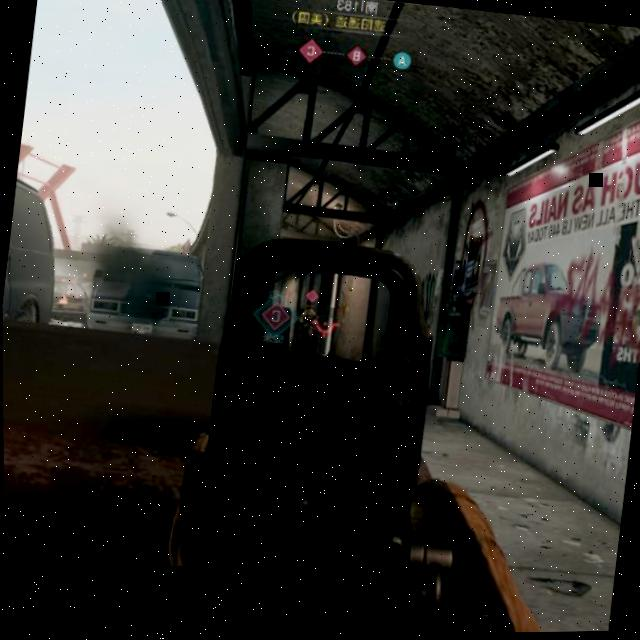MW2_body: (293, 289, 320, 349)
